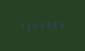nine: (31, 20, 37, 31), (38, 20, 44, 30)
seven: (17, 21, 23, 32)
six: (52, 19, 58, 29)
three: (45, 19, 51, 30), (24, 21, 30, 31)
two: (59, 18, 65, 29)
